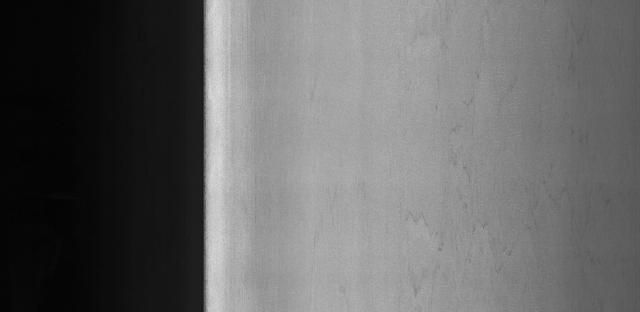silk_spot: (384, 28, 559, 294)
